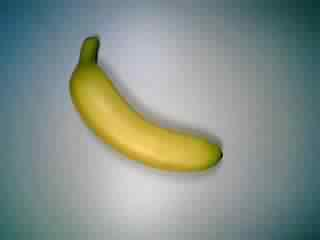banana: (69, 33, 232, 179)
